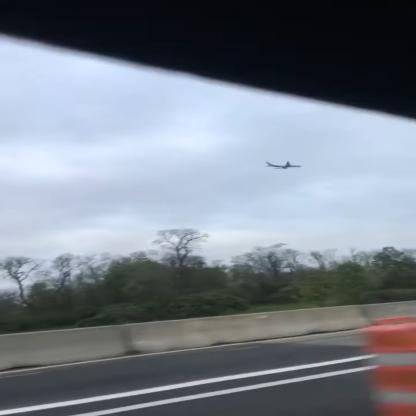plane: (266, 160, 305, 172)
